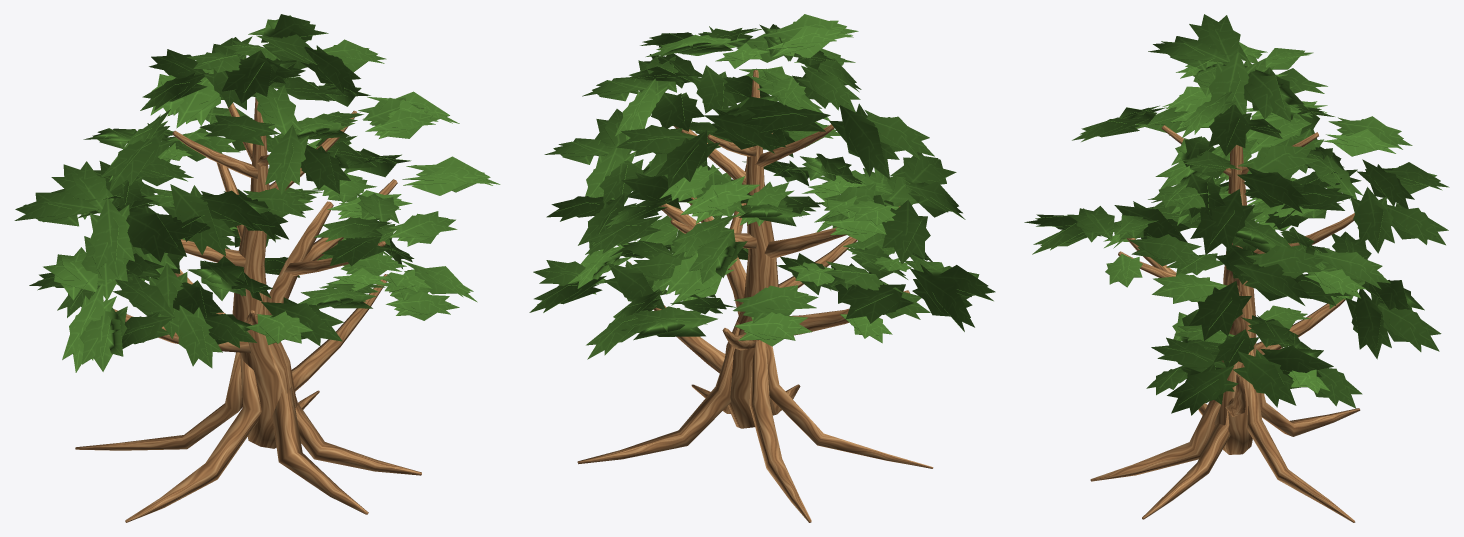
File: WT_MatureTree_LOD2.fbx
The picture shows the model from 3 angles, left to right: view 1: azimuth 30°, elevation 25°; view 2: azimuth 150°, elevation 25°; view 3: azimuth 270°, elevation 25°; orthographic projection. The views are drawn at different scales.
Visible parts, largest first — view 1: WT_MatureTree_Foliage_LOD2, WT_MatureTree_Trunk_Branches_LOD2, WT_MatureTree_Roots_LOD2; view 2: WT_MatureTree_Foliage_LOD2, WT_MatureTree_Trunk_Branches_LOD2, WT_MatureTree_Roots_LOD2; view 3: WT_MatureTree_Foliage_LOD2, WT_MatureTree_Trunk_Branches_LOD2, WT_MatureTree_Roots_LOD2.
Boxes of the visible parts, x1=… form: WT_MatureTree_Foliage_LOD2: x1=14, y1=14, x2=500, y2=372; WT_MatureTree_Trunk_Branches_LOD2: x1=114, y1=98, x2=397, y2=464; WT_MatureTree_Roots_LOD2: x1=75, y1=390, x2=421, y2=522; WT_MatureTree_Foliage_LOD2: x1=529, y1=14, x2=995, y2=359; WT_MatureTree_Trunk_Branches_LOD2: x1=625, y1=70, x2=909, y2=455; WT_MatureTree_Roots_LOD2: x1=577, y1=384, x2=933, y2=522; WT_MatureTree_Foliage_LOD2: x1=1024, y1=14, x2=1449, y2=415; WT_MatureTree_Trunk_Branches_LOD2: x1=1118, y1=125, x2=1354, y2=468; WT_MatureTree_Roots_LOD2: x1=1090, y1=403, x2=1360, y2=522.
Size of the model in its own units: 9.65 by 9.17 by 8.51.
Materials: 2 (2 with a texture image).
